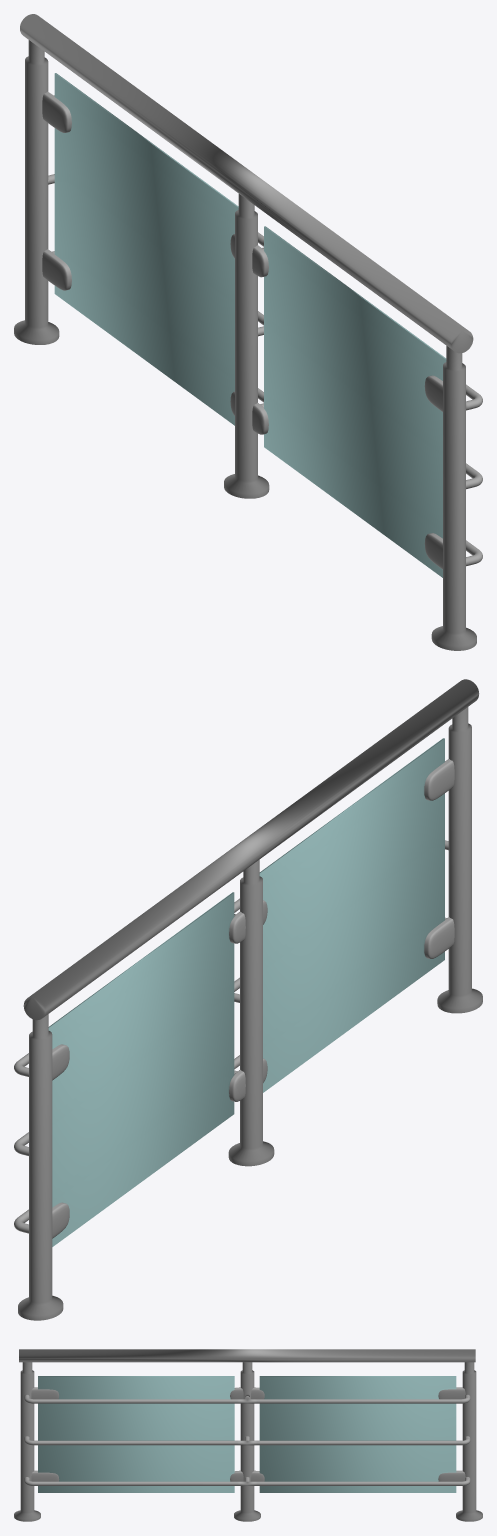
File: barandal.fbx
The picture shows the model from 3 angles, top to bottom: view 1: azimuth 30°, elevation 25°; view 2: azimuth 150°, elevation 25°; view 3: azimuth 270°, elevation 25°; orthographic projection. The views are drawn at different scales.
Parts seen in each view (by area): view 1: Cylinder.003; view 2: Cylinder.003; view 3: Cylinder.003.
Part boxes in pixels (x1,y1,x2,y2): Cylinder.003: [14, 14, 482, 650]; Cylinder.003: [14, 679, 482, 1320]; Cylinder.003: [14, 1349, 482, 1521].
Bounding box in the file's own units: 389 × 2332 × 5928.
